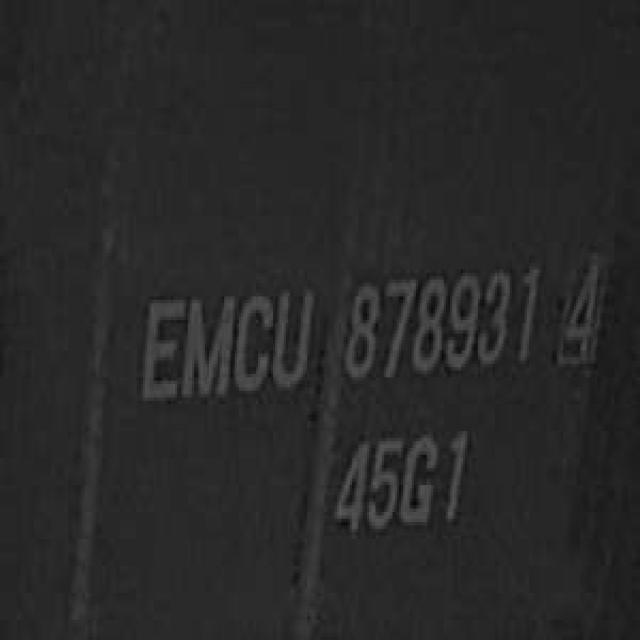dv: (553, 239, 610, 377)
owner: (130, 270, 318, 414)
serial: (335, 256, 542, 394)
size: (326, 421, 474, 542)
